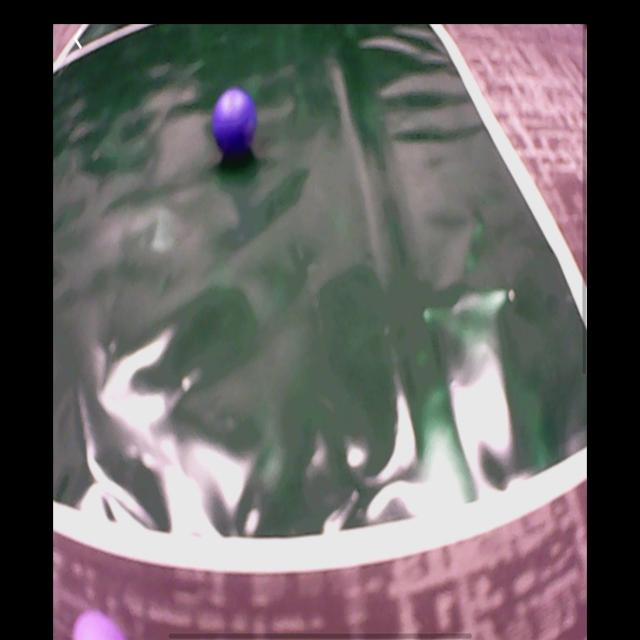ball: (212, 88, 259, 159), (69, 607, 132, 640)
